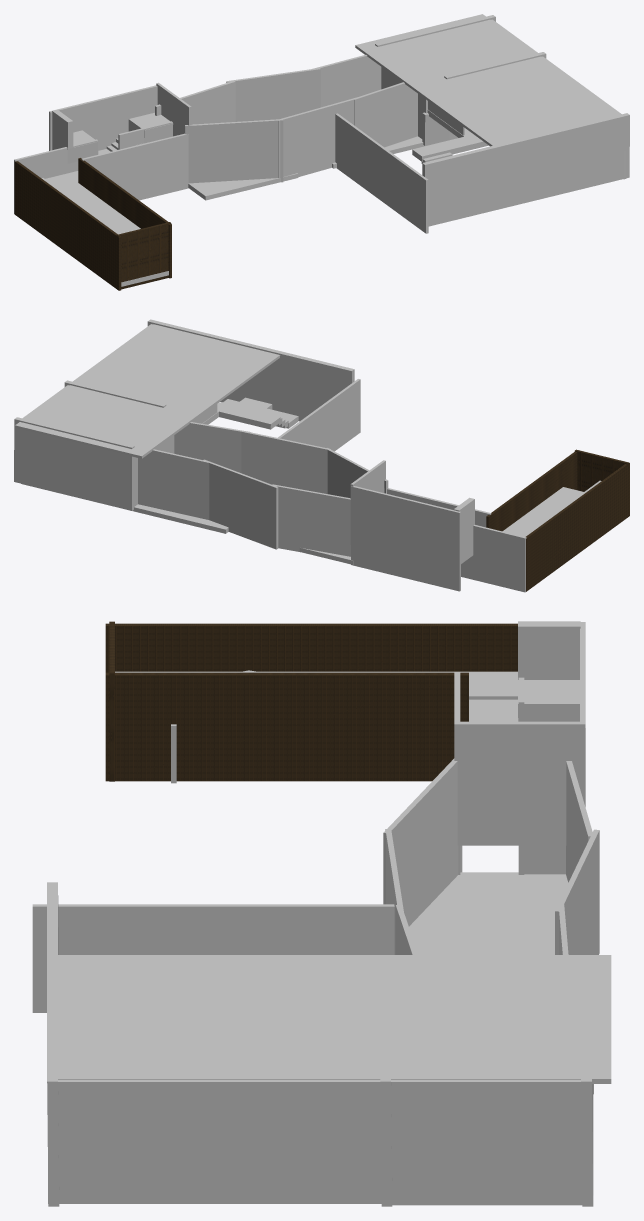
3 renders of one model, top to bottom at view 1: azimuth 30°, elevation 25°; view 2: azimuth 150°, elevation 25°; view 3: azimuth 270°, elevation 25°, orthographic. The views are drawn at different scales.
Visible parts, largest first — view 1: Cube.024, CUBE.007_MV1.026, Cube.011_Cube.008, Cube.021, Cube.025, Cube.015, Cube.022, Cube.019, Cube.016, Cube.023, Cube.005_Cube.013, Cube.020 (+15 smaller); view 2: Cube.024, Cube.016, CUBE.020_MV1.021, Cube.011_Cube.008, CUBE.007_MV1.026, Cube.018, Cube.019, Cube.020, Cube.022, Cube.013_Cube.011, Cube.025, Cube.009_Cube.006 (+12 smaller); view 3: Cube.024, cub.002_door1.003, Cube.009_Cube.006, Cube.011_Cube.008, Cube.025, Cube.017, CUBE.010_MV1.011, Cube.021, CUBE.009_MV1.010, Cube.019, CUBE.007_MV1.026, CUBE.020_MV1.021 (+7 smaller).
Boxes of the visible parts, box(x1,y1,x2,y2) form: Cube.024: box(355, 14, 619, 146); CUBE.007_MV1.026: box(422, 113, 629, 226); Cube.011_Cube.008: box(14, 161, 121, 290); Cube.021: box(185, 119, 283, 183); Cube.025: box(335, 113, 428, 233); Cube.015: box(81, 133, 188, 200); Cube.022: box(278, 97, 360, 177); Cube.019: box(226, 68, 320, 121); Cube.016: box(49, 85, 157, 150); Cube.023: box(353, 82, 417, 147); Cube.005_Cube.013: box(116, 222, 171, 289); Cube.020: box(312, 54, 381, 107); Cube.024: box(15, 324, 280, 458); Cube.016: box(351, 486, 460, 591); CUBE.020_MV1.021: box(14, 417, 134, 509); Cube.011_Cube.008: box(526, 462, 629, 591); CUBE.007_MV1.026: box(147, 319, 354, 421); Cube.018: box(272, 484, 350, 556); Cube.019: box(203, 459, 278, 549); Cube.020: box(138, 449, 209, 519); Cube.022: box(241, 431, 330, 493); Cube.013_Cube.011: box(461, 525, 526, 592); Cube.025: box(277, 379, 360, 451); Cube.009_Cube.006: box(486, 451, 577, 531); Cube.024: box(58, 955, 611, 1083); cub.002_door1.003: box(48, 1079, 582, 1203); Cube.009_Cube.006: box(105, 672, 468, 781); Cube.011_Cube.008: box(105, 623, 517, 672); Cube.025: box(32, 904, 394, 1012); Cube.017: box(454, 721, 585, 845); CUBE.010_MV1.011: box(409, 872, 568, 954); Cube.021: box(383, 758, 462, 926); CUBE.009_MV1.010: box(518, 621, 580, 721); Cube.019: box(555, 829, 599, 954); CUBE.007_MV1.026: box(47, 882, 59, 1206); CUBE.020_MV1.021: box(581, 966, 593, 1206).
Size of what is drawn, in the model's own units: 222 by 34.62 by 113.
Materials: 62 (1 with a texture image).
